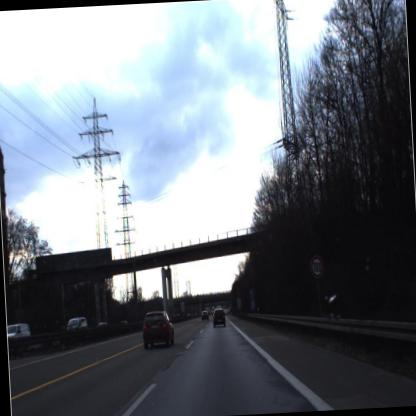prohibitory: (308, 254, 326, 281)
